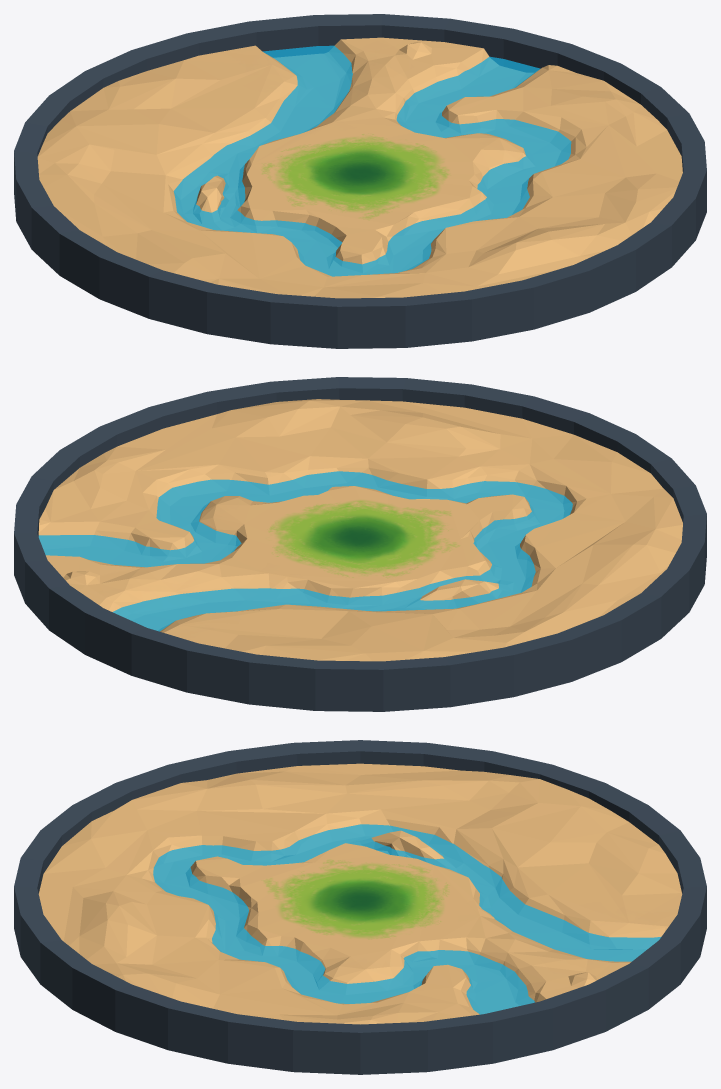
The model's file is landscape.glb.
3 renders of one model, top to bottom at view 1: azimuth 30°, elevation 25°; view 2: azimuth 150°, elevation 25°; view 3: azimuth 270°, elevation 25°, orthographic.
Parts seen in each view (by area): view 1: terrain, boardEdge, river; view 2: terrain, boardEdge, river; view 3: terrain, boardEdge, river.
Part boxes in pixels (x1,y1,x2,y2): terrain: (37,37,682,298); boardEdge: (14,14,706,348); river: (173,45,571,276); terrain: (38,399,682,661); boardEdge: (14,377,706,711); river: (38,471,572,631); terrain: (38,763,682,1024); boardEdge: (14,740,706,1074); river: (153,824,661,1014).
Size of the model in its own units: 195 by 13.03 by 195.
Materials: 3 (1 with a texture image).
